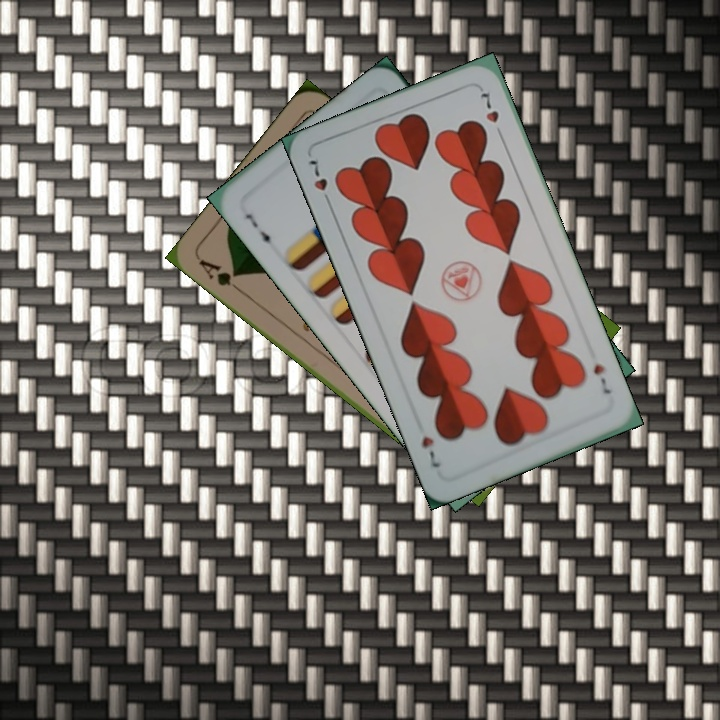E7: (241, 209, 276, 253)
GA: (194, 255, 245, 296)
H7: (303, 155, 335, 210), (589, 359, 614, 397)
